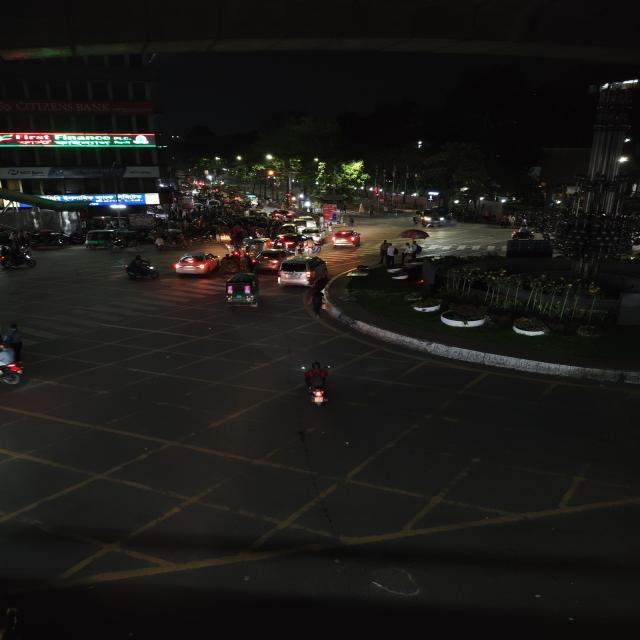car: (274, 255, 329, 288), (171, 250, 222, 278), (324, 227, 364, 249), (83, 229, 122, 251), (252, 249, 288, 269), (416, 209, 446, 229), (271, 234, 301, 251), (304, 228, 325, 245), (271, 209, 292, 221)
cng: (220, 273, 265, 310), (245, 238, 268, 258)
motorcycle: (295, 359, 338, 412), (1, 240, 36, 271), (121, 253, 160, 280), (508, 226, 539, 242)
pedestrian: (378, 240, 395, 264)
rickshaw: (215, 229, 233, 244)
